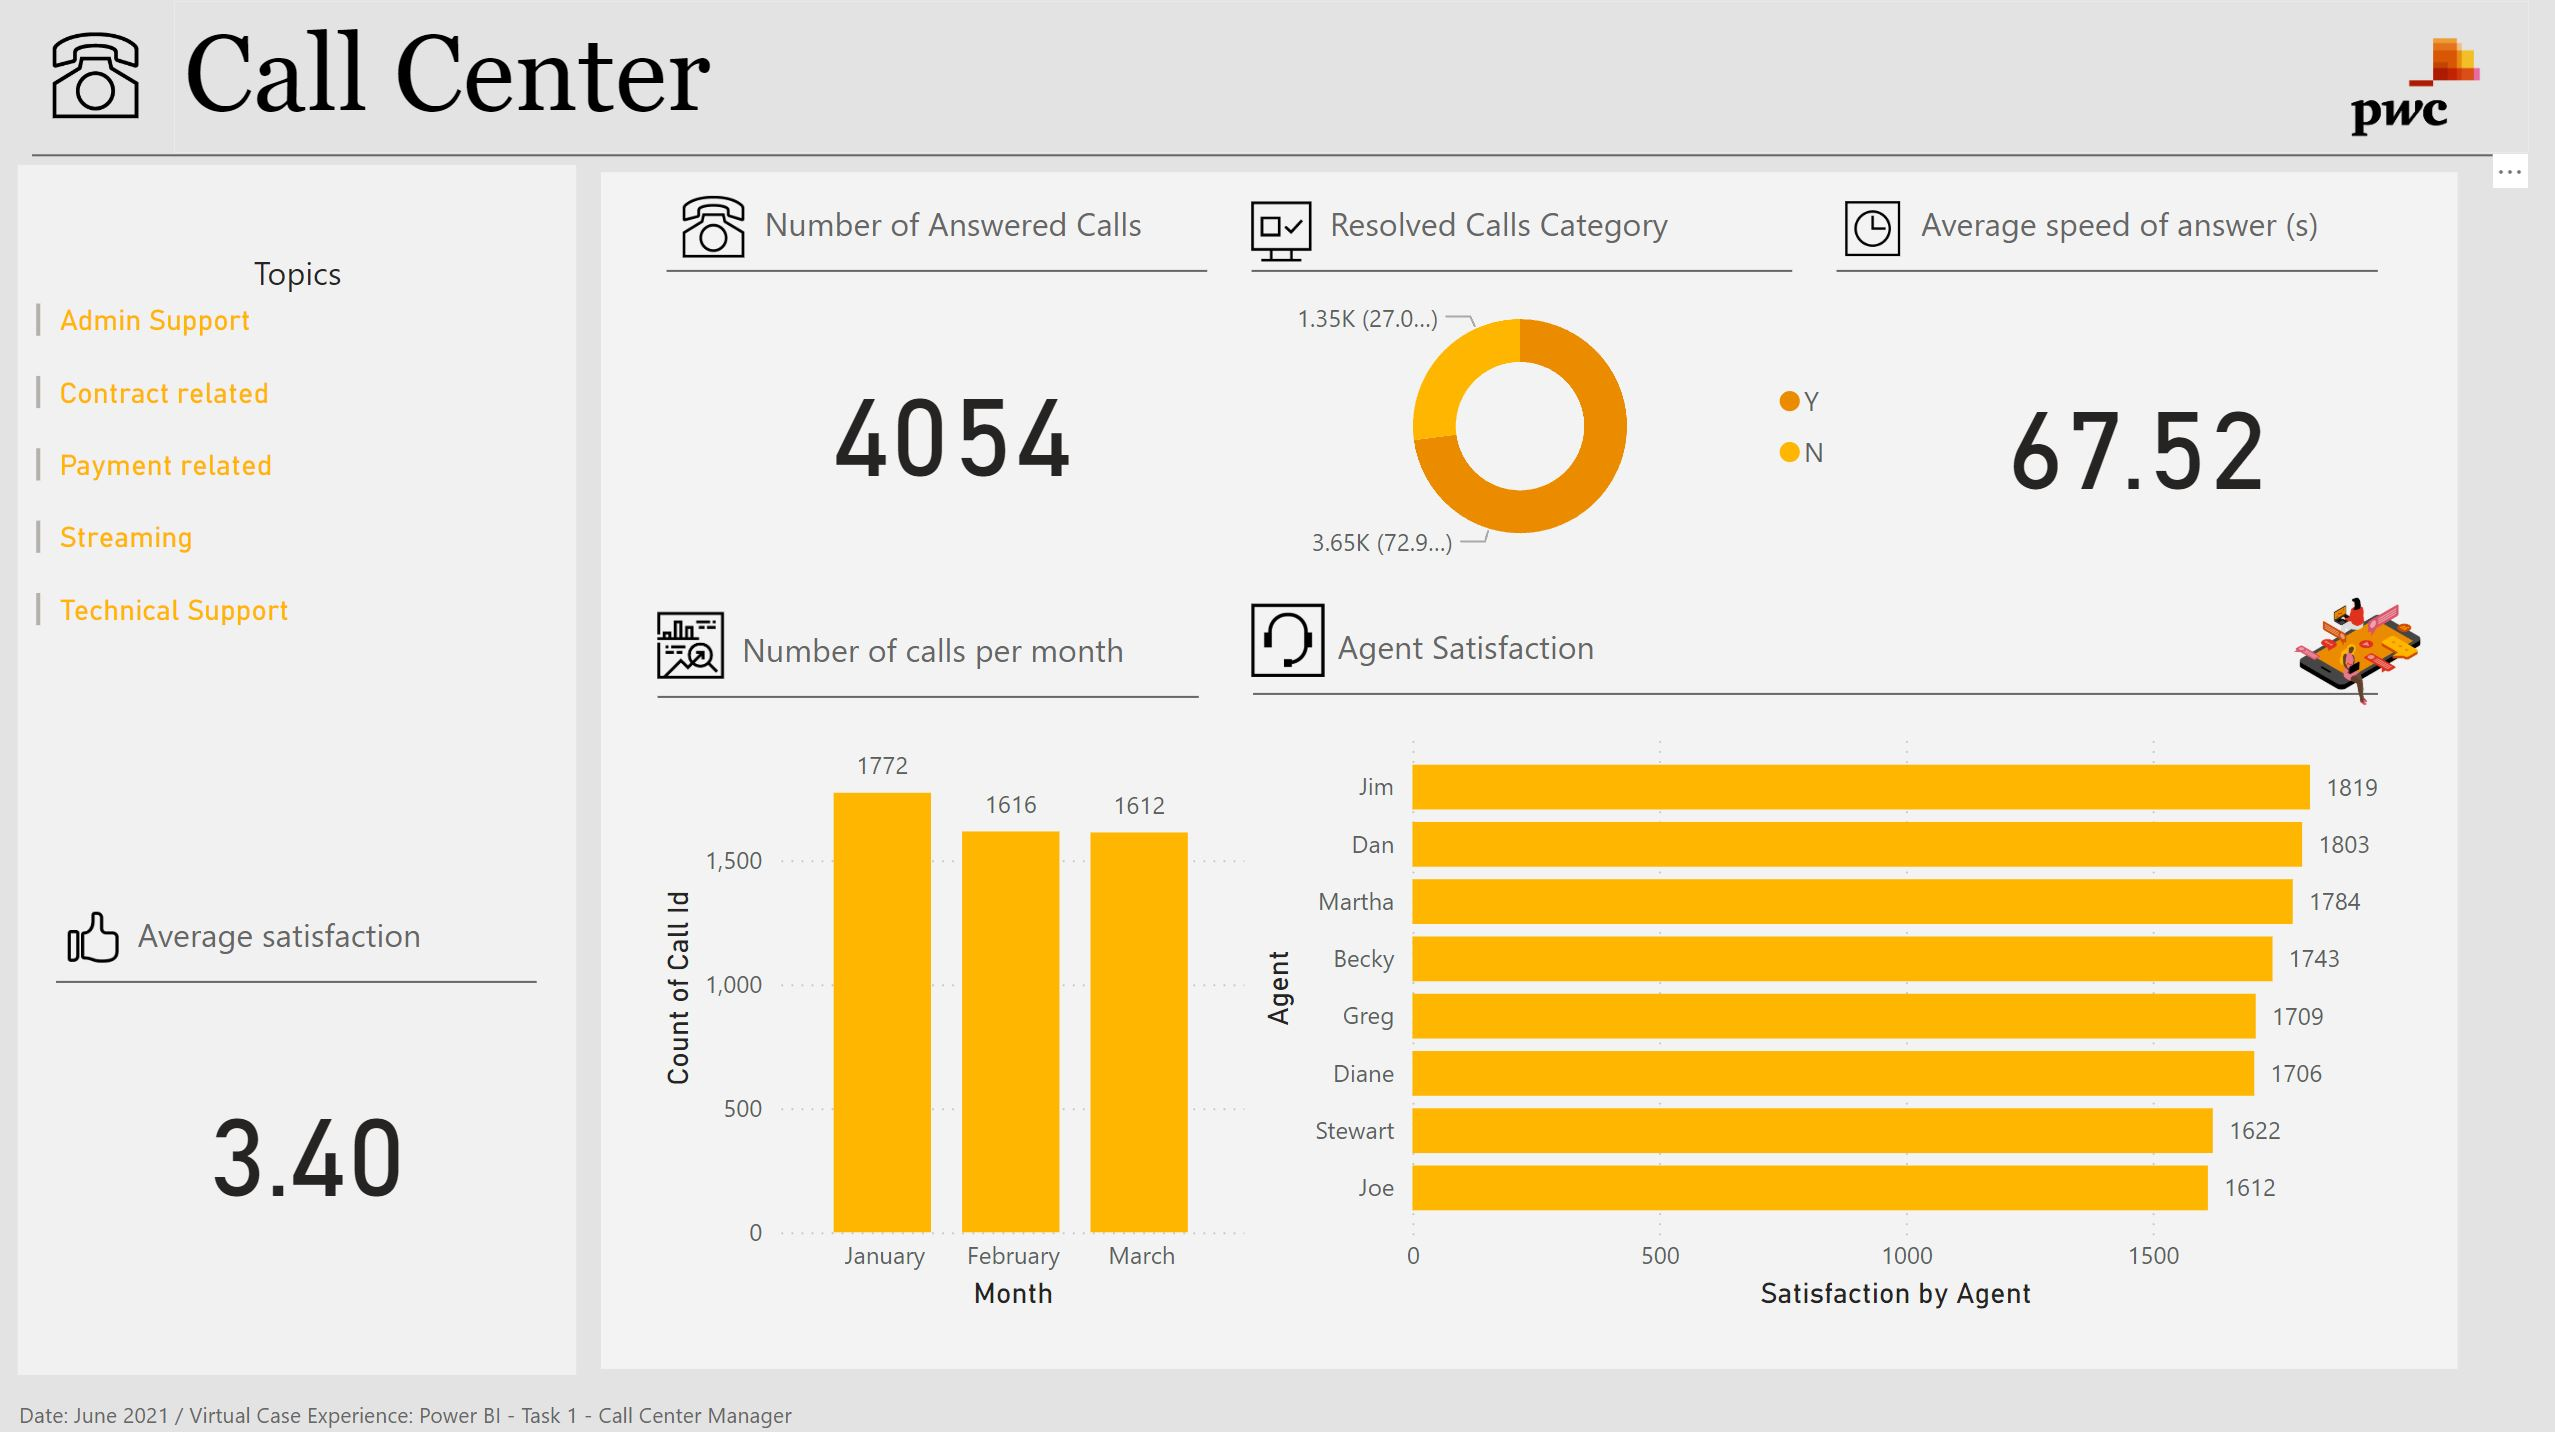

The page's visual inventory and layout, read from the dashboard file:
{"tool":"powerbi","page":{"name":"Call Center Manager","canvas":[1280,720],"ordinal":0},"visuals":[{"type":"textbox","box":[89.7,4.8,1172,75.2],"z":0},{"type":"basicShape","box":[9,61,1244.3,40.1],"z":1000},{"type":"basicShape","box":[8.7,80.1,283.6,614.4],"z":2000},{"type":"basicShape","box":[292.6,83.8,942.7,607.6],"z":3000},{"type":"image","box":[1129,0,151,94.5],"z":4000},{"type":"image","box":[24.1,7.7,53.1,68.5],"z":5000},{"type":"image","box":[31.1,452.4,35.7,35.7],"z":13000},{"type":"textbox","box":[66.8,452.4,188.1,35.7],"z":14000},{"type":"basicShape","box":[21.2,472.5,259.1,40.2],"z":15000},{"type":"textbox","box":[378.4,98.5,223.9,35.8],"z":17000},{"type":"textbox","box":[659.8,98.5,233.6,35.8],"z":18000},{"type":"basicShape","box":[906.9,118.4,289.3,40.2],"z":20000},{"type":"textbox","box":[953.9,98.5,262,35.8],"z":21000},{"type":"basicShape","box":[325,118.4,289,40.2],"z":22000},{"type":"basicShape","box":[616,118.4,289,40.2],"z":23000},{"type":"image","box":[915.9,88.2,38,59.2],"z":24000},{"type":"image","box":[337.3,94.9,41.3,43.6],"z":25000},{"type":"image","box":[619.9,88.2,40.2,61.4],"z":26000},{"type":"textbox","box":[367.4,310.5,250.2,35.7],"z":27000},{"type":"basicShape","box":[320.5,330.6,289.3,40.2],"z":28000},{"type":"textbox","box":[663.4,309.3,250.2,35.7],"z":29000},{"type":"basicShape","box":[616.5,329.5,579.7,40.2],"z":30000},{"type":"image","box":[619.9,294.9,46.9,55.8],"z":31000},{"type":"image","box":[325,290.4,43.6,69.2],"z":32000},{"type":"image","box":[1080,278.4,200,91.8],"z":33000},{"type":"textbox","box":[7.7,691.6,403.2,28],"z":34000},{"type":"card","fields":{"Values":["Call Center.Answered (Y/N)"]},"box":[337.4,138.1,278.4,153],"z":34001},{"type":"donutChart","fields":{"Category":["Call Center.Resolved"],"Y":["Call Center.Resolved"]},"box":[625.5,141.1,300,149.3],"z":34002},{"type":"card","fields":{"Values":["Call Center.Speed of answer in seconds"]},"box":[915.8,141.1,300,159.7],"z":34003},{"type":"clusteredBarChart","fields":{"Category":["Call Center.Agent"],"Y":["Call Center.Satisfaction rating"]},"box":[625.5,359.8,579.2,300],"z":34004},{"type":"columnChart","fields":{"Category":["Call Center.Date.Variation.Date Hierarchy.Month"],"Y":["Call Center.Call Id"]},"box":[326.9,359.8,300,300],"z":34005},{"type":"card","fields":{"Values":["Call Center.Satisfaction rating"]},"box":[31.3,492.6,248.5,160.5],"z":34006},{"type":"multiRowCard","title":"Topics","fields":{"Values":["Call Center.Topic"]},"box":[15.7,128.4,270.9,300],"z":34007}]}

Visuals, with their boxes in screenshot pixels (x1, y1, x2, y2), scaled from the page's 1280x720 canvas onto the 2555x1432 screenshot:
textbox: [179, 10, 2518, 159]
basicShape: [18, 121, 2502, 201]
basicShape: [17, 159, 583, 1381]
basicShape: [584, 167, 2466, 1375]
image: [2254, 0, 2554, 188]
image: [48, 15, 154, 152]
image: [62, 900, 133, 971]
textbox: [133, 900, 509, 971]
basicShape: [42, 940, 560, 1020]
textbox: [755, 196, 1202, 267]
textbox: [1317, 196, 1783, 267]
basicShape: [1810, 235, 2388, 315]
textbox: [1904, 196, 2427, 267]
basicShape: [649, 235, 1226, 315]
basicShape: [1230, 235, 1806, 315]
image: [1828, 175, 1904, 293]
image: [673, 189, 756, 275]
image: [1237, 175, 1318, 298]
textbox: [733, 618, 1233, 689]
basicShape: [640, 658, 1217, 737]
textbox: [1324, 615, 1824, 686]
basicShape: [1231, 655, 2388, 735]
image: [1237, 587, 1331, 698]
image: [649, 578, 736, 715]
image: [2156, 554, 2554, 736]
textbox: [15, 1376, 820, 1431]
card - Call Center.Answered (Y/N): [673, 275, 1229, 579]
donutChart - Call Center.Resolved x Call Center.Resolved: [1249, 281, 1847, 578]
card - Call Center.Speed of answer in seconds: [1828, 281, 2427, 598]
clusteredBarChart - Call Center.Agent x Call Center.Satisfaction rating: [1249, 716, 2405, 1312]
columnChart - Call Center.Date.Variation.Date Hierarchy.Month x Call Center.Call Id: [653, 716, 1251, 1312]
card - Call Center.Satisfaction rating: [62, 980, 559, 1299]
"Topics" multiRowCard: [31, 255, 572, 852]
